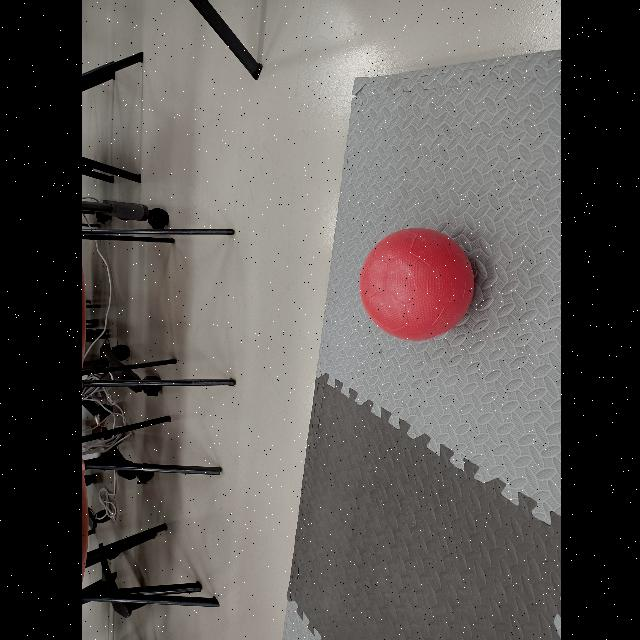R: (356, 228, 474, 342)
